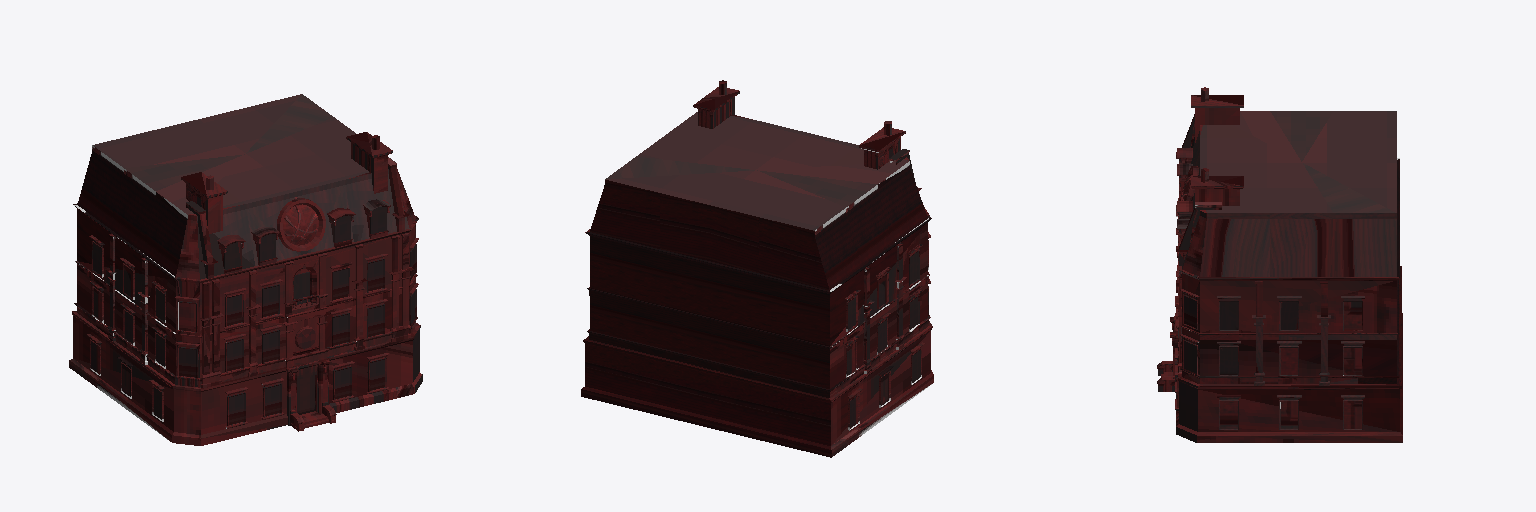
The picture shows the model from 3 angles: view 1: azimuth 30°, elevation 25°; view 2: azimuth 150°, elevation 25°; view 3: azimuth 270°, elevation 25°; orthographic projection.
Parts seen in each view (by area): view 1: S_SC_E_Main_SanctumA01.mo_S_SC_E_Main_SanctumA01.md, S_SC_E_Main_SanctumA01.mo.001_S_SC_E_Main_SanctumA01.md.003, IZQ.mo.001_S_SC_E_Main_SanctumA01.md.002; view 2: atras.mo.001_S_SC_E_Main_SanctumA01.md.001, S_SC_E_Main_SanctumA01.mo.001_S_SC_E_Main_SanctumA01.md.003, S_SC_E_Main_SanctumA01.mo_S_SC_E_Main_SanctumA01.md; view 3: IZQ.mo.001_S_SC_E_Main_SanctumA01.md.002, S_SC_E_Main_SanctumA01.mo_S_SC_E_Main_SanctumA01.md, atras.mo.001_S_SC_E_Main_SanctumA01.md.001.
Part boxes in pixels (x1,y1,x2,y2): S_SC_E_Main_SanctumA01.mo_S_SC_E_Main_SanctumA01.md: (76,94,422,445); S_SC_E_Main_SanctumA01.mo.001_S_SC_E_Main_SanctumA01.md.003: (69,145,196,441); IZQ.mo.001_S_SC_E_Main_SanctumA01.md.002: (72,216,420,438); atras.mo.001_S_SC_E_Main_SanctumA01.md.001: (581,180,848,457); S_SC_E_Main_SanctumA01.mo.001_S_SC_E_Main_SanctumA01.md.003: (815,161,933,456); S_SC_E_Main_SanctumA01.mo_S_SC_E_Main_SanctumA01.md: (605,80,932,430); IZQ.mo.001_S_SC_E_Main_SanctumA01.md.002: (1197,213,1402,442); S_SC_E_Main_SanctumA01.mo_S_SC_E_Main_SanctumA01.md: (1157,87,1396,442); atras.mo.001_S_SC_E_Main_SanctumA01.md.001: (1397,159,1402,434).
Size of the model in its own units: 35.29 by 33.76 by 29.79.
Materials: 8 (3 with a texture image).